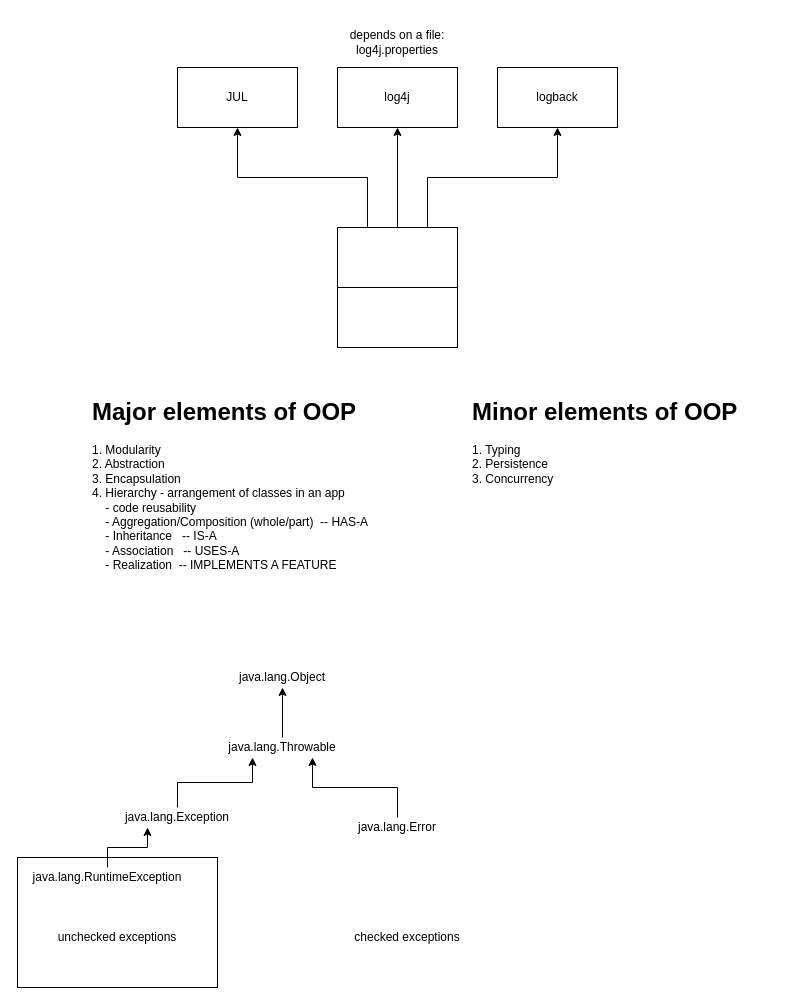
This 795x1005 diagram has some shape labels left out. The shapes that lost their labels are listed below. From the top down, each one's centre as x and y in pixels, then its label:
(397,257): slf4j simple logging facade for Java
(397,317): App uses slf4j api
